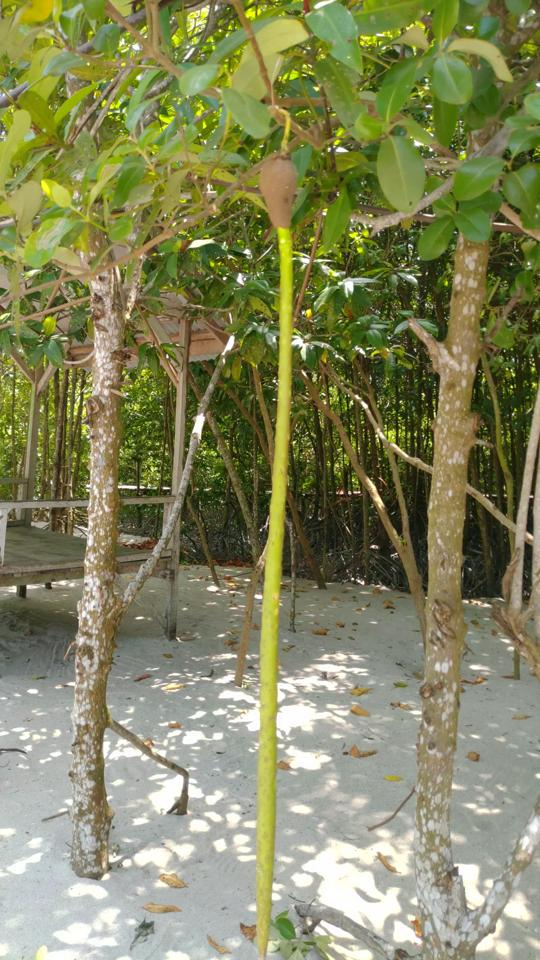mentah: (246, 141, 301, 958)
